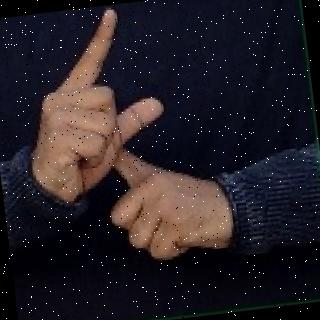Y: (21, 0, 204, 276)
